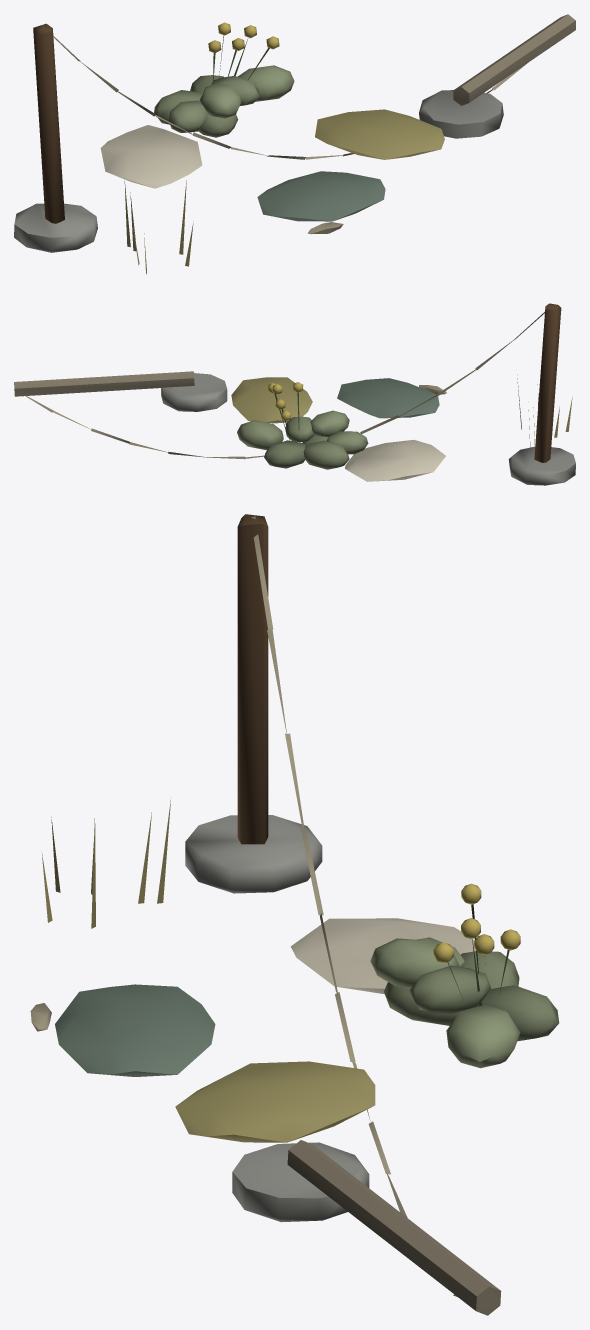
Rendered from laundry_line_c_lod2.glb.
3 renders of one model, top to bottom at view 1: azimuth 30°, elevation 25°; view 2: azimuth 150°, elevation 25°; view 3: azimuth 270°, elevation 25°, orthographic. The views are drawn at different scales.
Parts seen in each view (by area): view 1: Surface.001; view 2: Surface.001; view 3: Surface.001.
Part boxes in pixels (x1,y1,x2,y2): Surface.001: (14, 14, 575, 274); Surface.001: (14, 303, 575, 485); Surface.001: (30, 514, 559, 1315).
Bounding box in the file's own units: 4.91 × 1.89 × 2.24.
